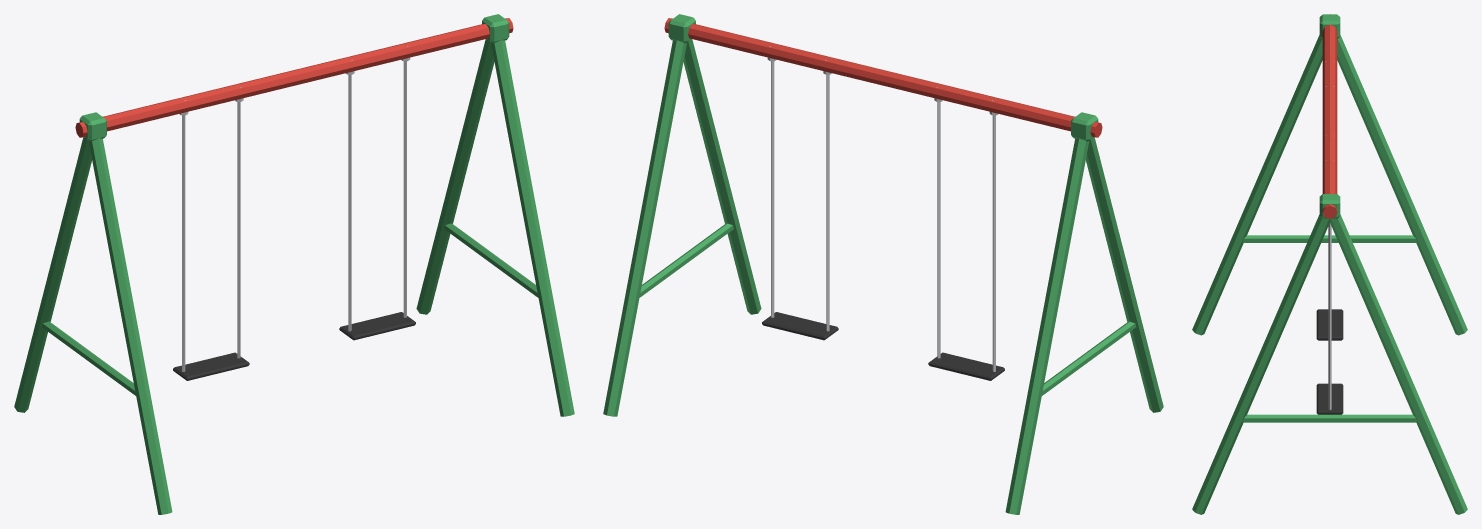
File: swings.glb
3 renders of one model, left to right at view 1: azimuth 30°, elevation 25°; view 2: azimuth 150°, elevation 25°; view 3: azimuth 270°, elevation 25°, orthographic. The views are drawn at different scales.
Visible parts, largest first — view 1: frame, seat-2, seat-1; view 2: frame, seat-2, seat-1; view 3: frame, seat-1, seat-2.
Part boxes in pixels (x1,y1,x2,y2): frame: [14, 14, 574, 514]; seat-2: [173, 84, 249, 380]; seat-1: [339, 43, 415, 340]; frame: [603, 14, 1163, 514]; seat-2: [928, 84, 1004, 380]; seat-1: [762, 43, 838, 340]; frame: [1192, 14, 1467, 514]; seat-1: [1316, 136, 1343, 414]; seat-2: [1316, 61, 1343, 340].
Size of the model in its own units: 3.1 by 2.39 by 1.88.
